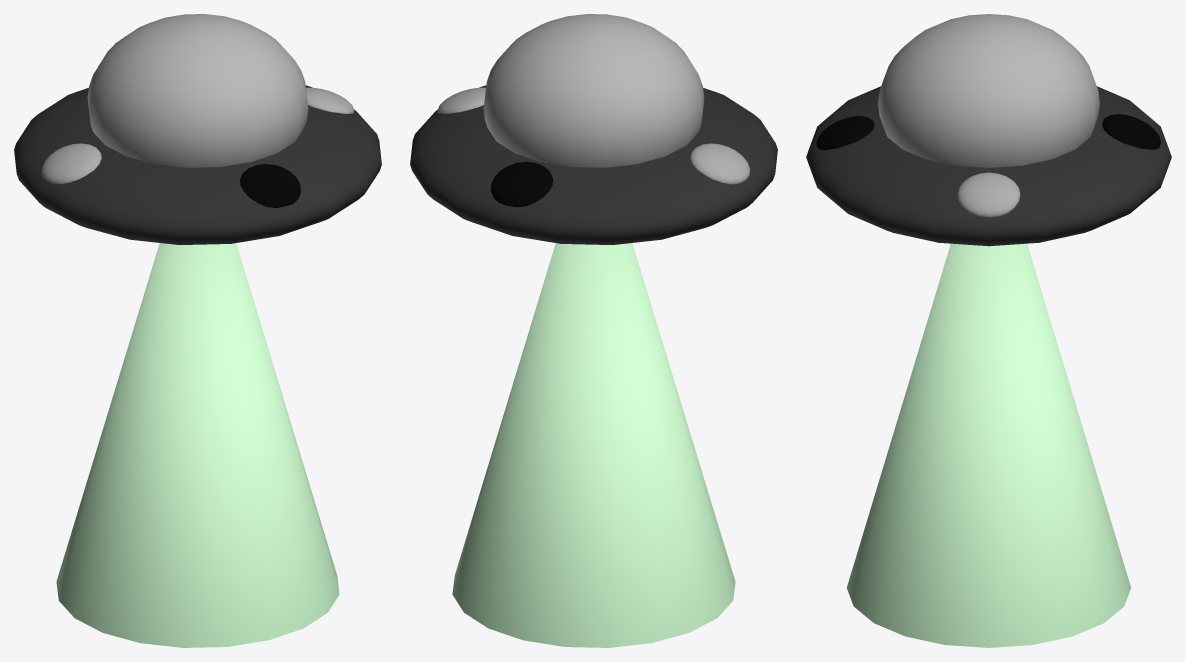
Rendered from ufo3.fbx.
The picture shows the model from 3 angles, left to right: view 1: azimuth 30°, elevation 25°; view 2: azimuth 150°, elevation 25°; view 3: azimuth 270°, elevation 25°; orthographic projection.
Parts seen in each view (by area): view 1: polySurface11; view 2: polySurface11; view 3: polySurface11.
Part boxes in pixels (bbox=[...]): polySurface11: bbox=[14, 14, 381, 647]; polySurface11: bbox=[410, 14, 777, 647]; polySurface11: bbox=[806, 14, 1171, 647].
Size of the model in its own units: 7.86 by 13.11 by 7.75.
